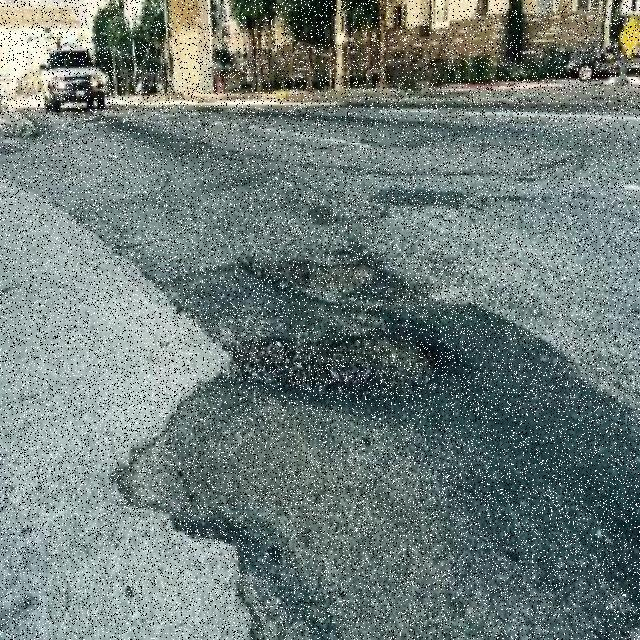pothole: (228, 335, 436, 403), (238, 249, 423, 309)
